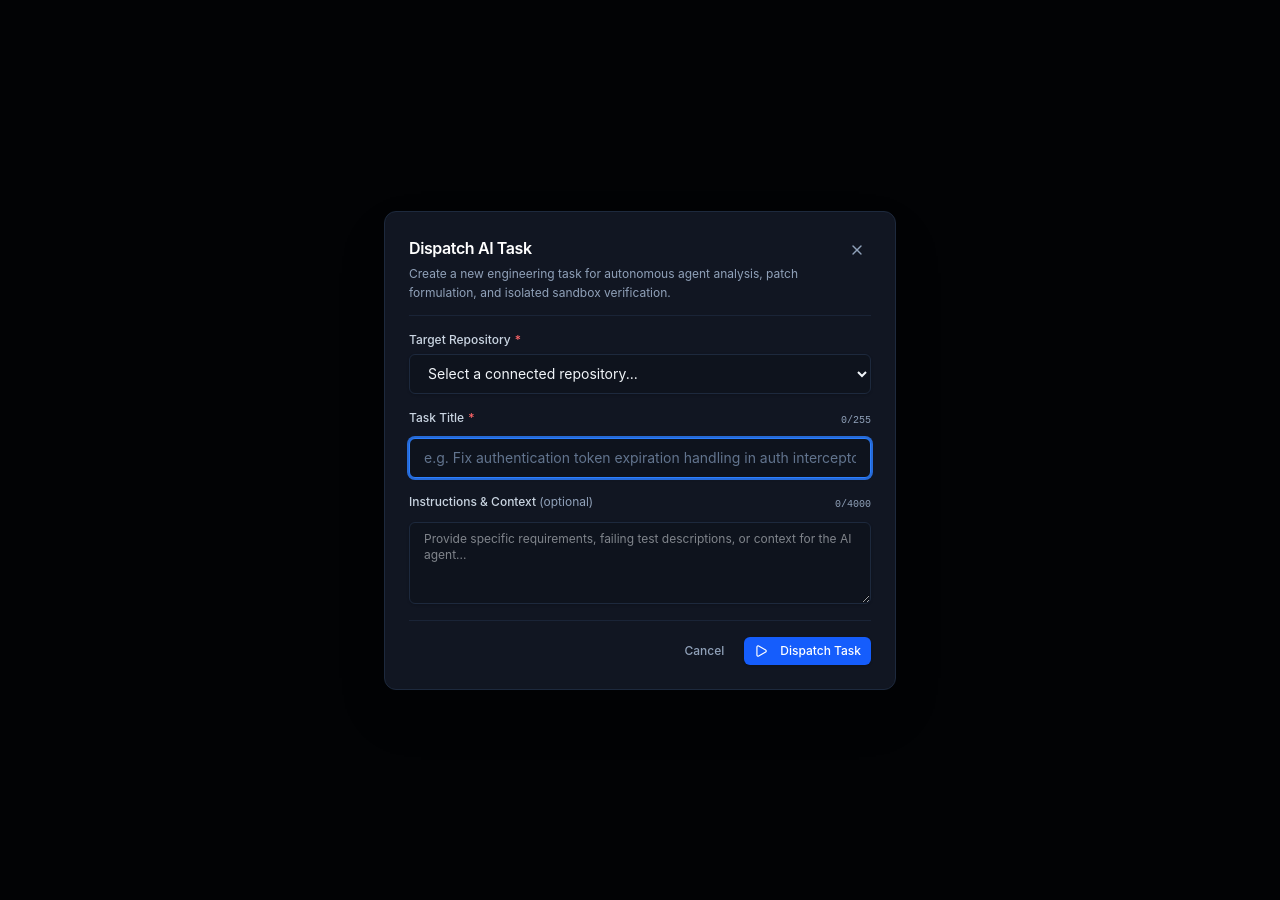
Test: CreateTaskDialog › handles 400 validation error from backend
The image size is (1280, 900).
Step 1. Select "org/repo-one (main)" in the dropdown labelled "Target Repository*" → (640, 374), box [409, 354, 871, 394]
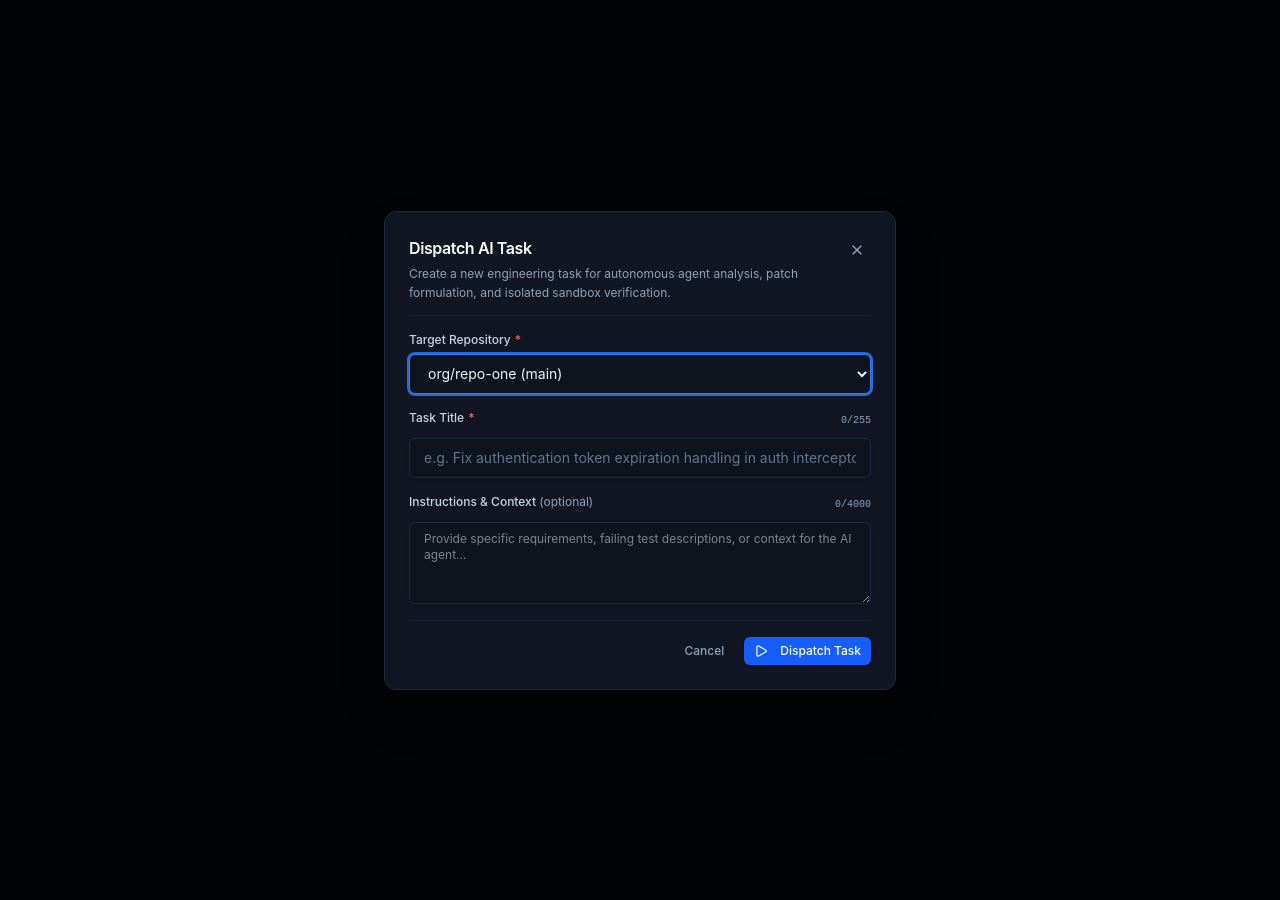
Step 2. Type "Fix" into the field with placeholder "Fix authentication token" → (640, 458), box [409, 438, 871, 478]
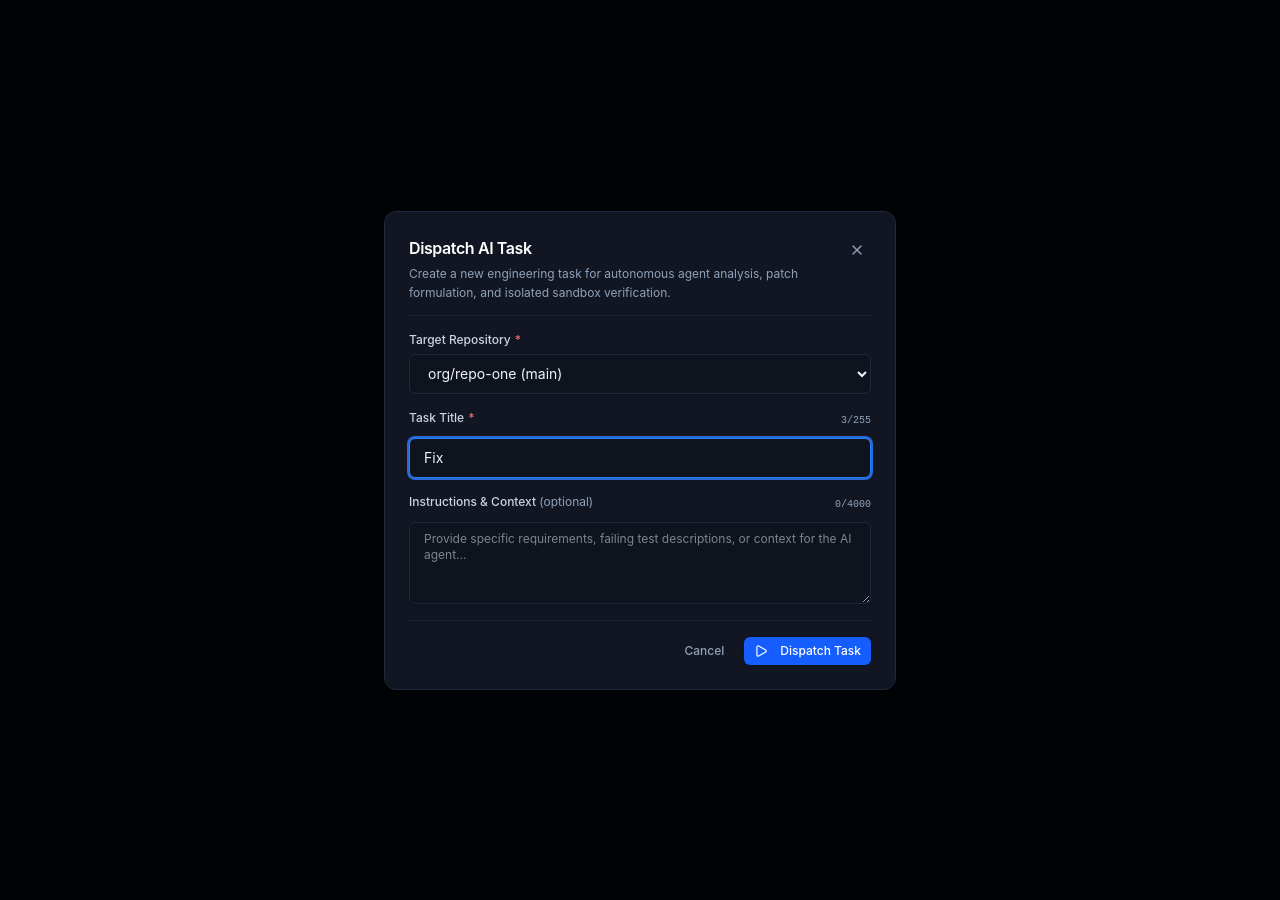
Step 3. Click the button "Dispatch Task" → (808, 650), box [744, 636, 871, 664]
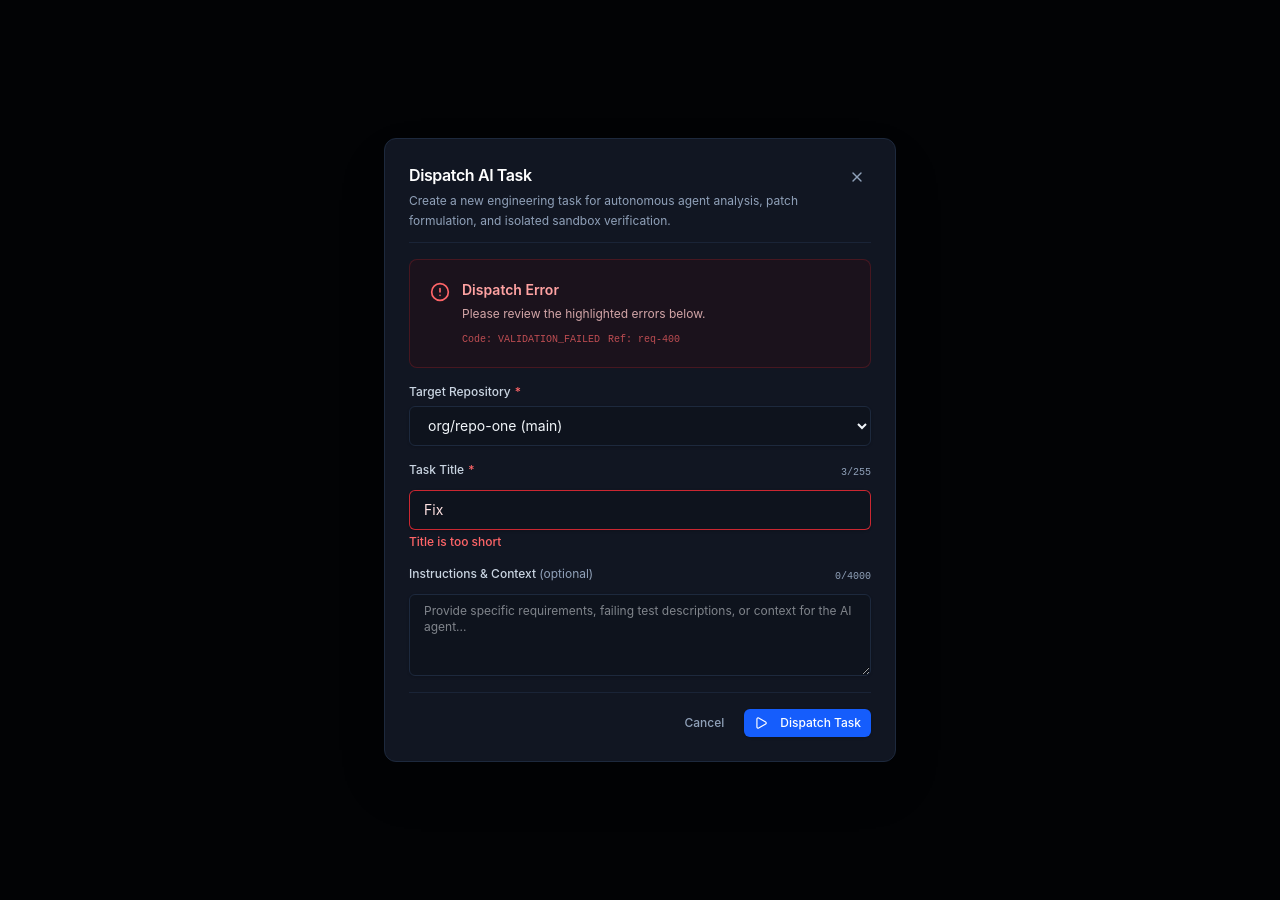
Result: the text "Title is too short" is shown at [409, 534, 501, 549]
